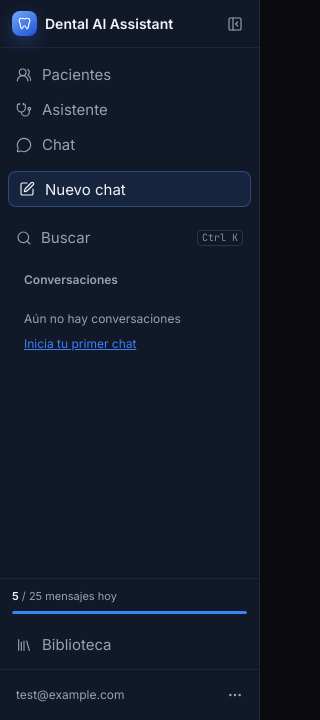
Test: Sidebar logout › shows the user email and a logout button when authed
Expected: the text "test@example.com" is shown, [16,687,124,703]
Click the button with aria-label "abrir menú de usuario": (130, 695) [8,678,251,712]
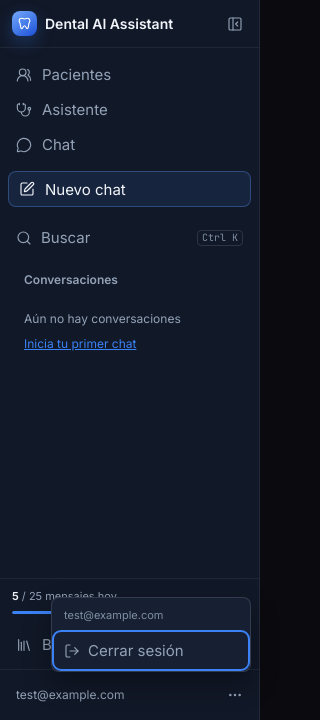
Expected: the menu item "Cerrar sesión" is shown, [56,634,246,667]
